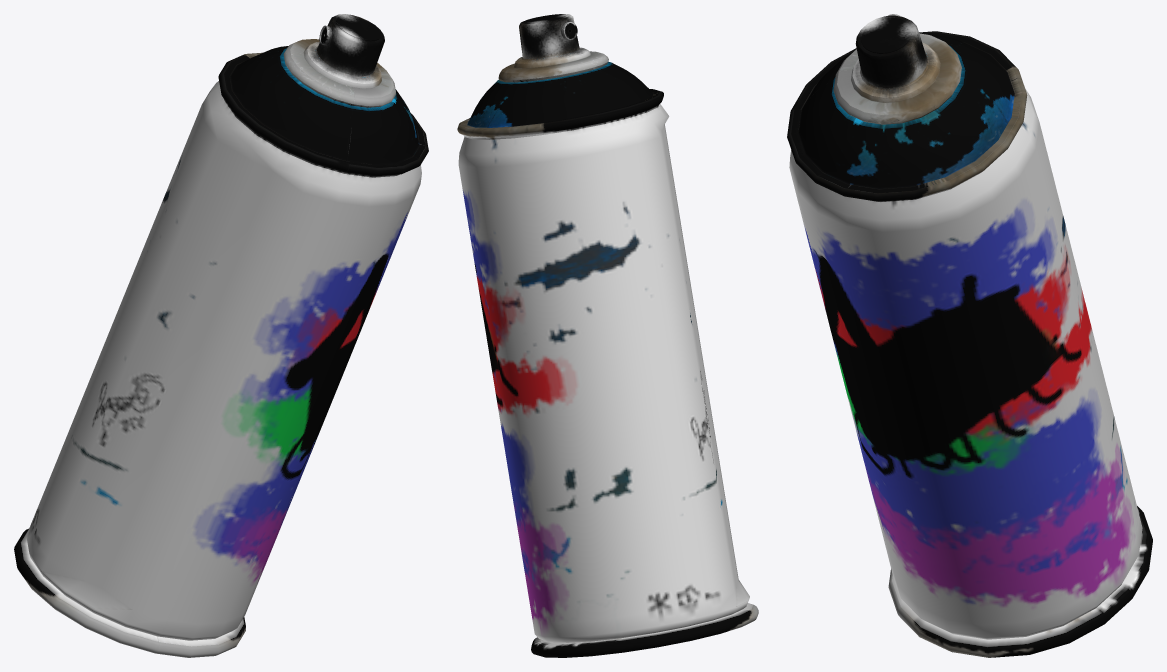
Rendered from spray_.glb.
3 renders of one model, left to right at view 1: azimuth 30°, elevation 25°; view 2: azimuth 150°, elevation 25°; view 3: azimuth 270°, elevation 25°, orthographic. The views are drawn at different scales.
Visible parts, largest first — view 1: node_id32_1; view 2: node_id32_1; view 3: node_id32_1.
Boxes of the visible parts, bbox=[...] form: node_id32_1: bbox=[14, 14, 428, 657]; node_id32_1: bbox=[457, 14, 758, 657]; node_id32_1: bbox=[787, 14, 1152, 657].
Bounding box in the file's own units: 0.2974 × 0.5185 × 0.256.
1 material, 1 textured.
